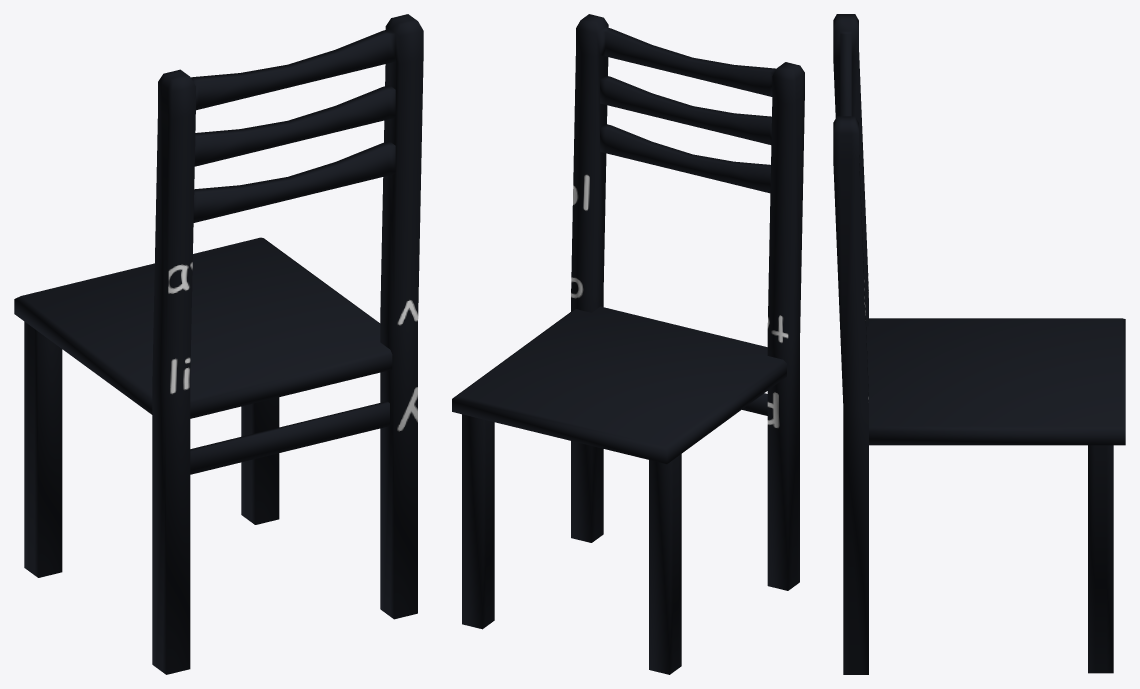
Rendered from chair.dae.
3 renders of one model, left to right at view 1: azimuth 30°, elevation 25°; view 2: azimuth 150°, elevation 25°; view 3: azimuth 270°, elevation 25°, orthographic. The views are drawn at different scales.
Parts seen in each view (by area): view 1: Cube; view 2: Cube; view 3: Cube.
Boxes of the visible parts, box(x1,y1,x2,y2) form: Cube: box(14, 14, 423, 674); Cube: box(452, 14, 804, 674); Cube: box(833, 14, 1125, 674).
Size of the model in its own units: 3.75 by 4.1 by 8.51.
